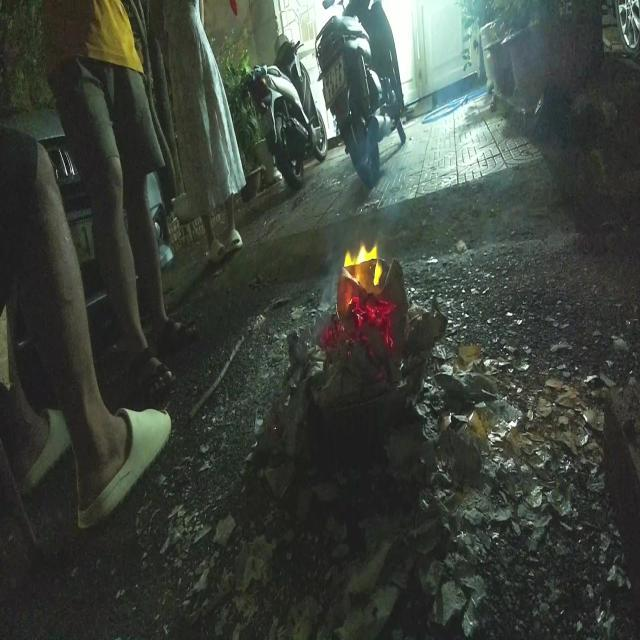Fire: (337, 242, 392, 339)
